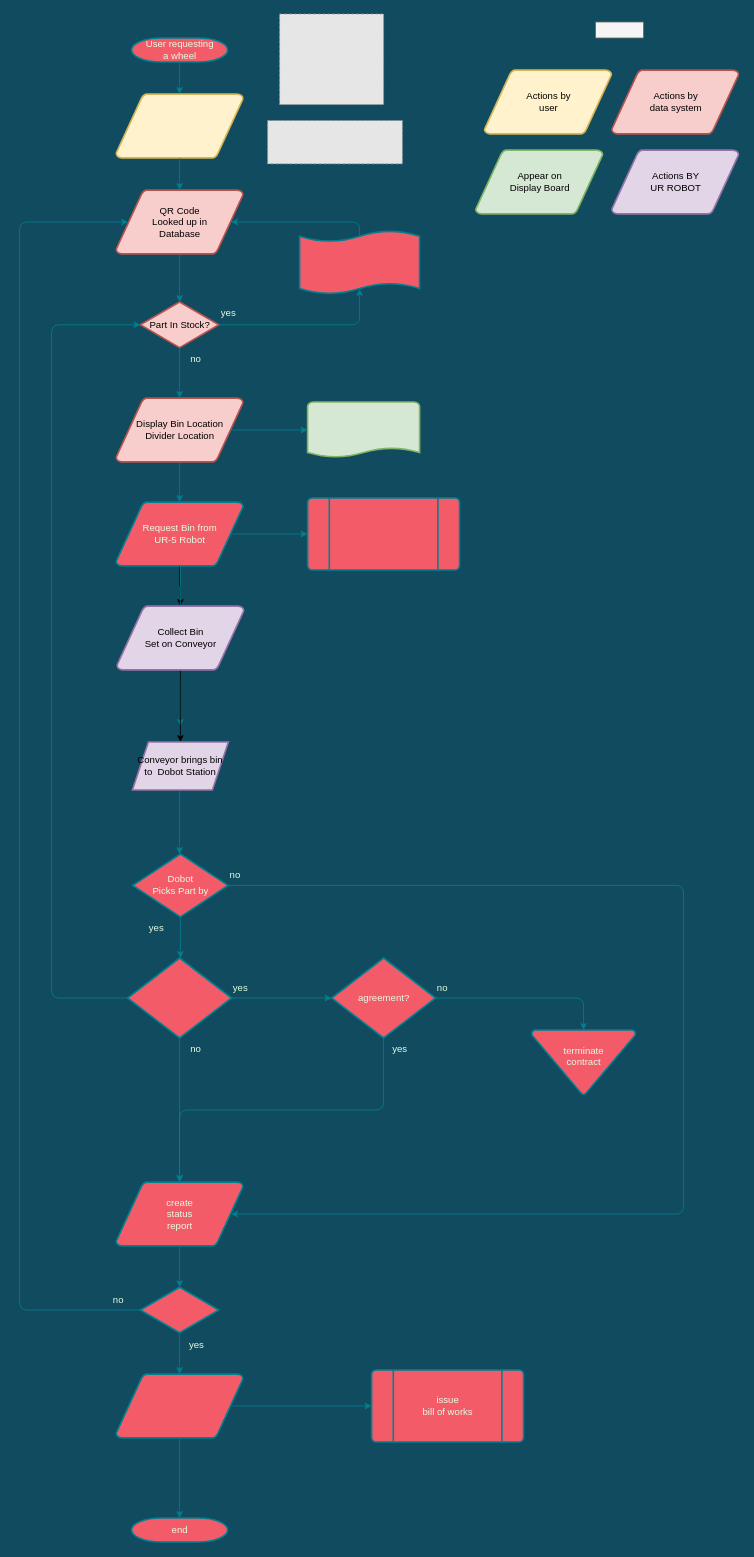
This 754x1557 diagram has some shape labels left out. Grey dashed boxes stand in for pictures. The box of each missing label's shape, as (x1, y1, x2, y2) in pixels:
create final report: (115, 1373, 244, 1438)
DISPLAY BOARD: (306, 401, 420, 458)
investor disapproves investment?: (126, 957, 232, 1038)
iron out obscurities with investor: (298, 229, 420, 295)
Legend: (595, 21, 644, 38)
material balance: (306, 497, 460, 570)
project complete?: (139, 1286, 219, 1333)
User Scans QR Code with Sample Item: (115, 93, 244, 158)
